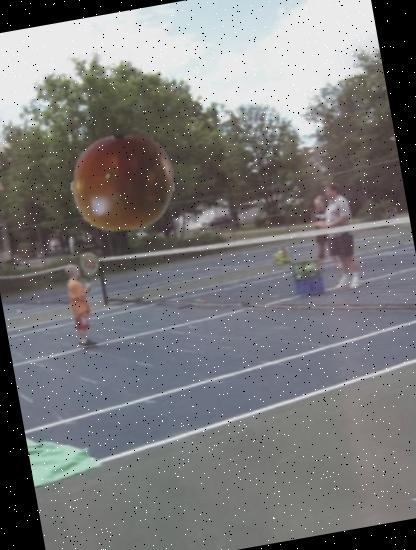Tomato: (63, 124, 183, 243)
